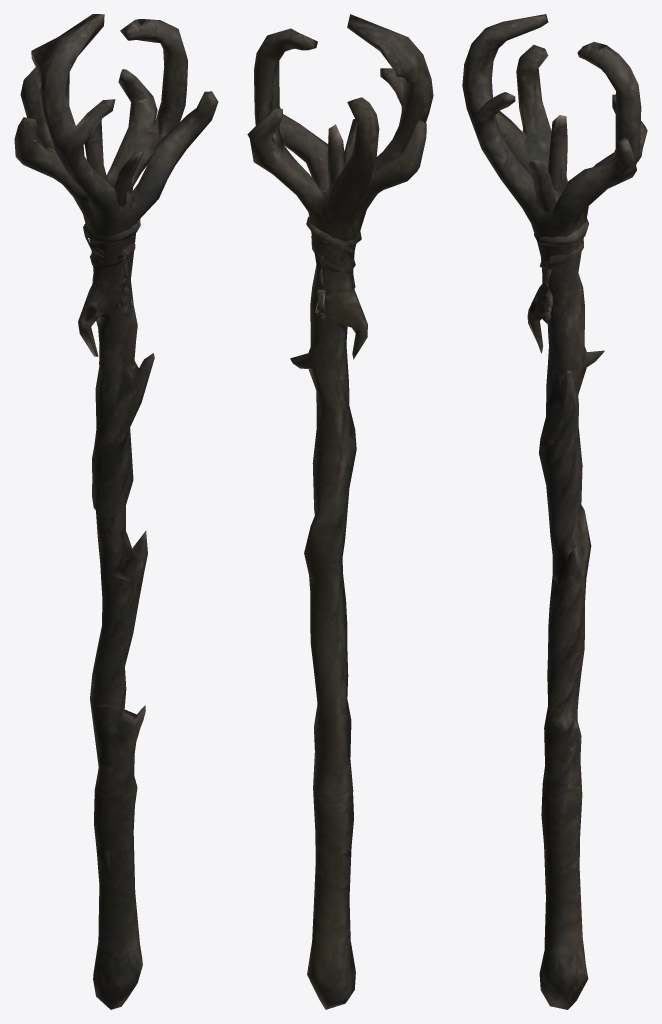
The model's file is w_staff.glb.
3 renders of one model, left to right at view 1: azimuth 30°, elevation 25°; view 2: azimuth 150°, elevation 25°; view 3: azimuth 330°, elevation 25°, orthographic.
Visible parts, largest first — view 1: w_staff; view 2: w_staff; view 3: w_staff.
Part boxes in pixels (left/top/right/bottom): w_staff: left=14, top=14, right=218, bottom=1009; w_staff: left=247, top=14, right=433, bottom=1009; w_staff: left=462, top=14, right=647, bottom=1009.
Size of the model in its own units: 0.3989 by 2.1 by 0.2201.
Materials: 1 (1 with a texture image).
